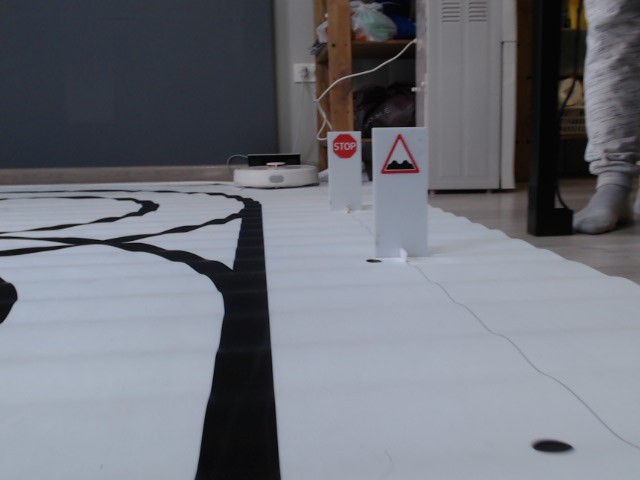Nerov: (379, 132, 422, 177)
Stop: (330, 133, 358, 159)
